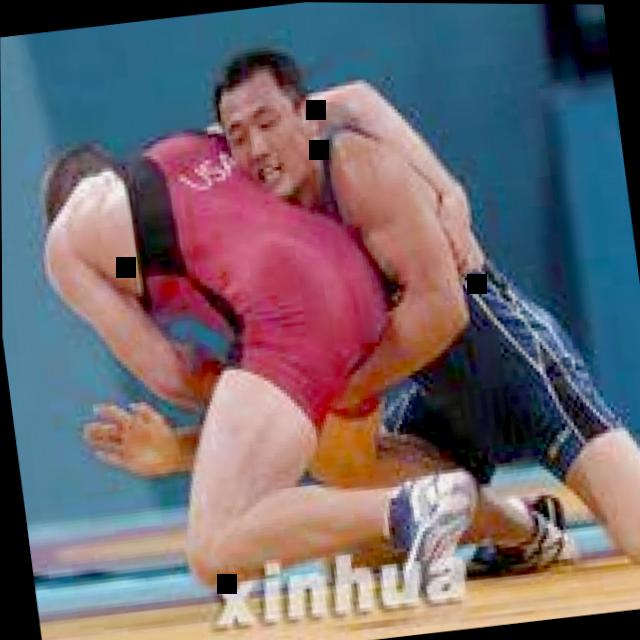Fall-Detected: (0, 8, 637, 638)
